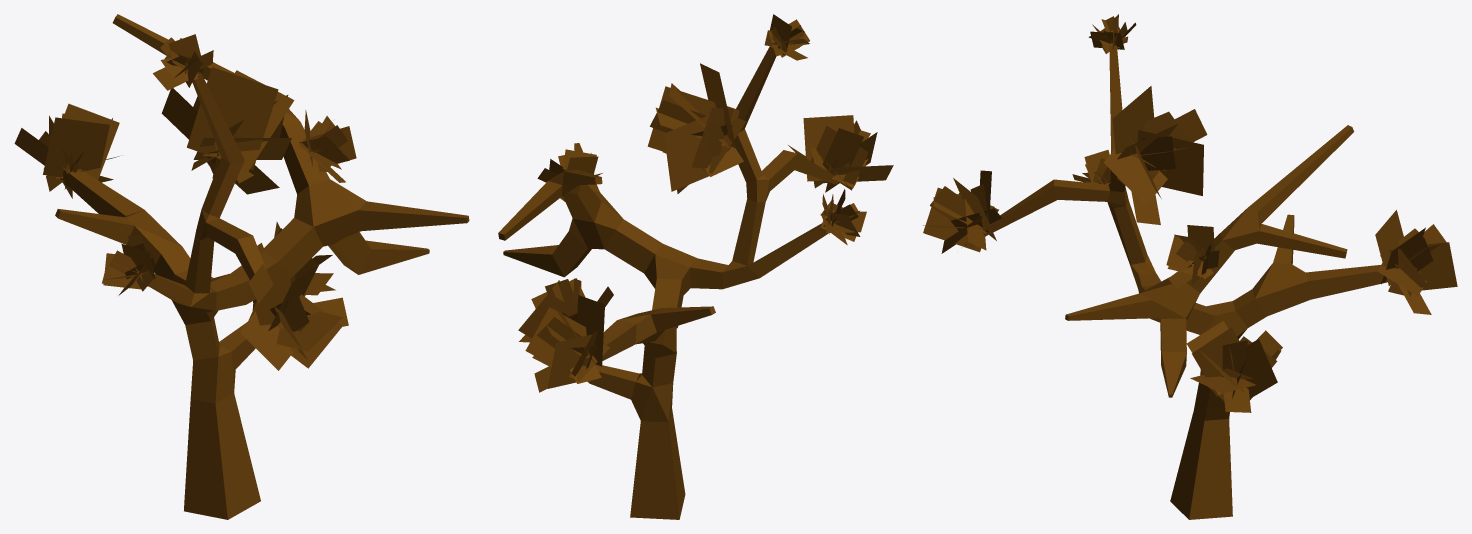
File: Sc_arbolDesierto_2.fbx
3 renders of one model, left to right at view 1: azimuth 30°, elevation 25°; view 2: azimuth 150°, elevation 25°; view 3: azimuth 270°, elevation 25°, orthographic. The views are drawn at different scales.
Parts seen in each view (by area): view 1: ArbolEstepa; view 2: ArbolEstepa; view 3: ArbolEstepa.
Boxes of the visible parts, x1,y1,x2,y2 form: ArbolEstepa: [14, 14, 469, 519]; ArbolEstepa: [498, 14, 893, 519]; ArbolEstepa: [923, 14, 1457, 519].
Size of the model in its own units: 341 by 479 by 506.
